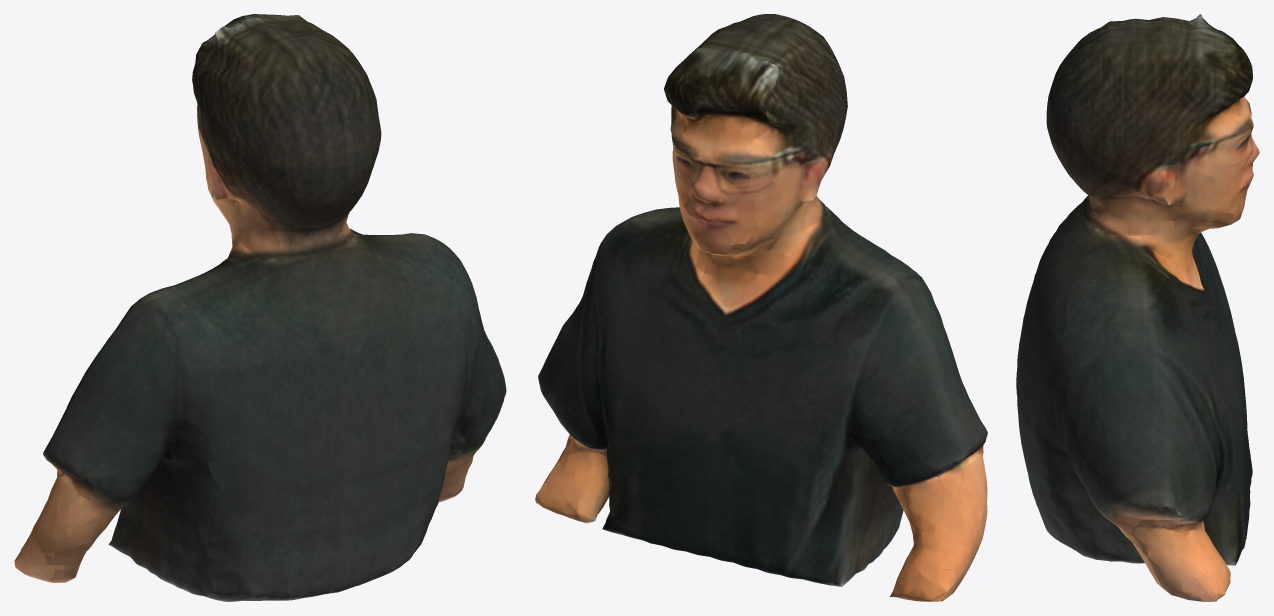
The picture shows the model from 3 angles, left to right: view 1: azimuth 30°, elevation 25°; view 2: azimuth 150°, elevation 25°; view 3: azimuth 270°, elevation 25°; orthographic projection. The views are drawn at different scales.
Parts seen in each view (by area): view 1: world; view 2: world; view 3: world.
Boxes of the visible parts, bbox=[...] form: world: bbox=[14, 14, 506, 601]; world: bbox=[535, 14, 987, 601]; world: bbox=[1016, 14, 1259, 601].
Bounding box in the file's own units: 0.8095 × 0.8897 × 0.3966.
Materials: 1 (1 with a texture image).
